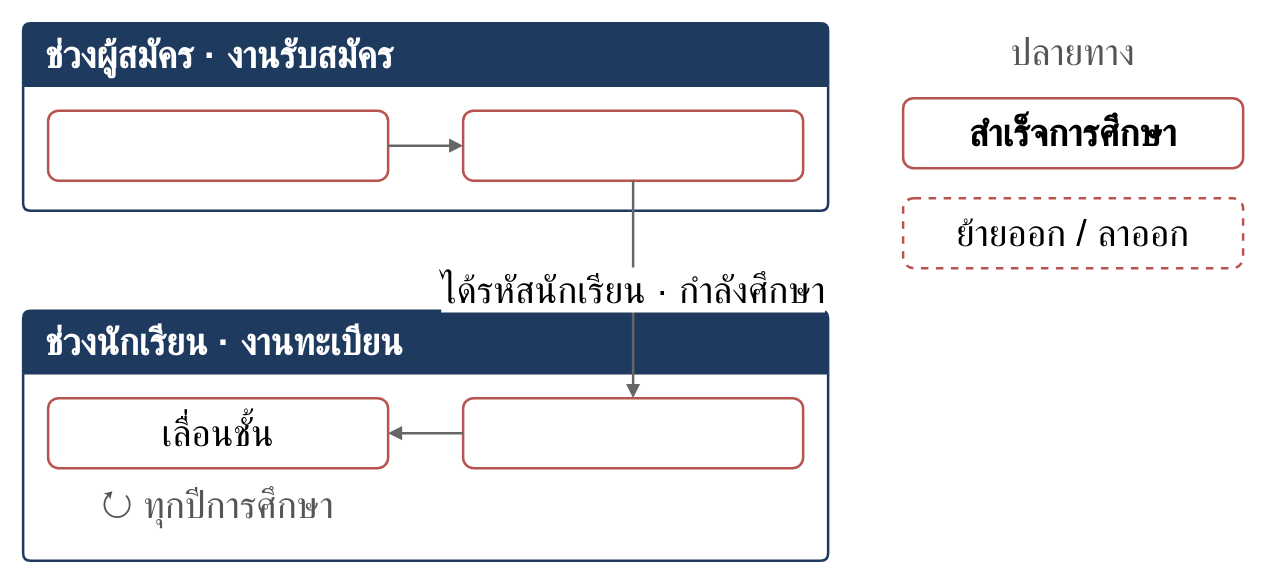
Image size: 1265x583. Some labels were removed from this diagram. The shapes that lost their labels are listed below. From the top down, each one's centre as x and y in pixels, then its label:
pixel 217 145: รายงานตัว
pixel 632 145: มอบตัว
pixel 632 432: จัดห้อง / ย้ายห้อง
